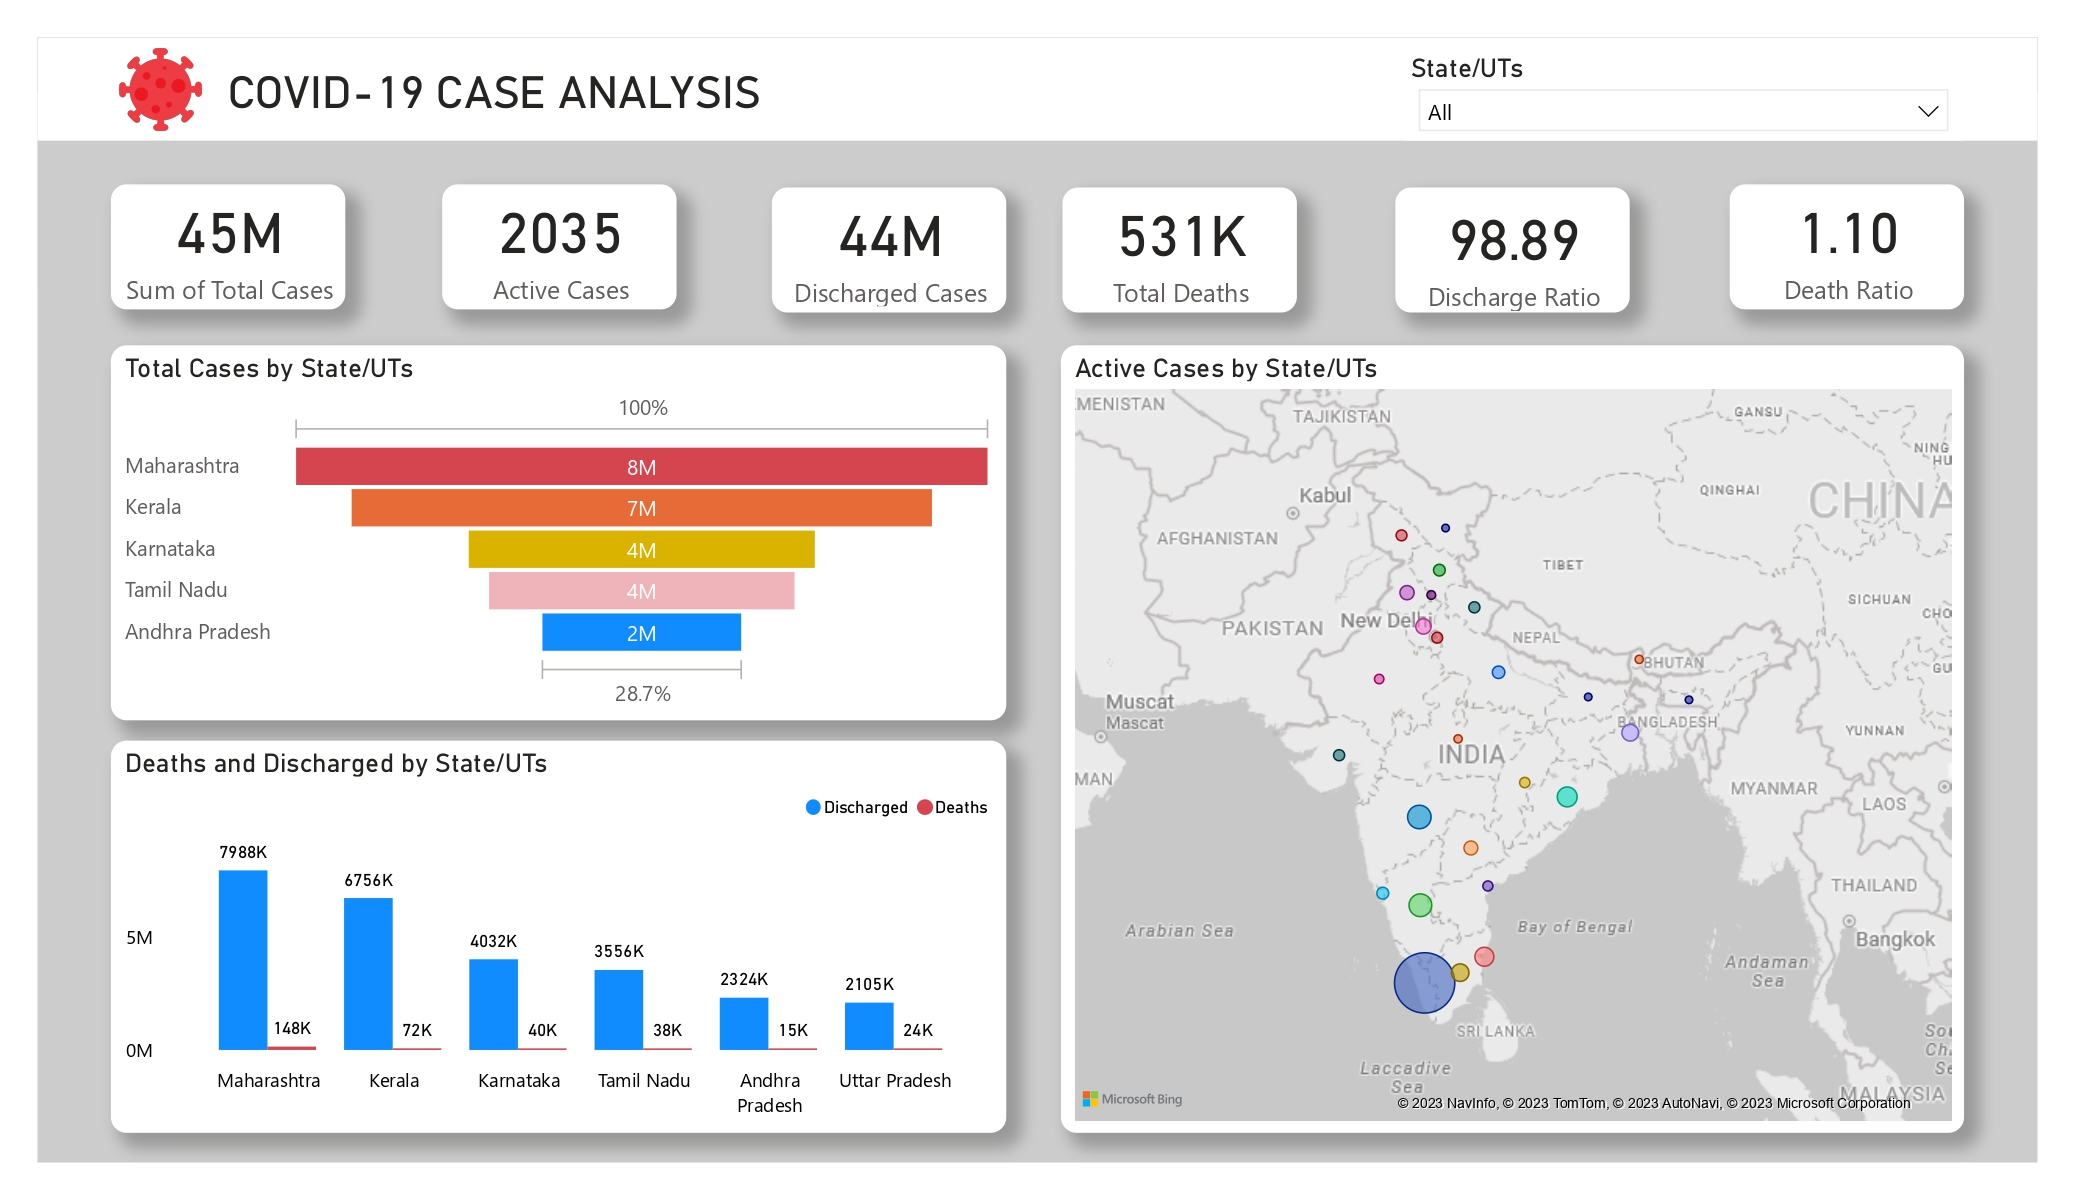

What the dashboard file says about the page in this screenshot:
{"tool":"powerbi","page":{"name":"Covid -19","canvas":[1280,720],"ordinal":0},"visuals":[{"type":"textbox","title":"  ","box":[0,0,1280.6,65.8],"z":0},{"type":"card","fields":{"Values":["Sum(Latest Covid-19 India Status.Discharged)"]},"box":[470,95.7,150,80],"z":1000},{"type":"card","fields":{"Values":["Sum(Latest Covid-19 India Status.Deaths)"]},"box":[655.7,95.7,150,80],"z":2000},{"type":"slicer","title":"State/UTs","fields":{"Values":["Latest Covid-19 India Status.State/UTs"]},"box":[873.9,9.4,359.5,56.6],"z":3000},{"type":"funnel","fields":{"Category":["Latest Covid-19 India Status.State/UTs"],"Y":["Sum(Latest Covid-19 India Status.Total Cases)"]},"box":[47.1,197.1,572.9,240],"z":4000},{"type":"card","fields":{"Values":["Avg(Latest Covid-19 India Status.Death Ratio)"]},"box":[1082.6,94.3,150.8,79.4],"z":5000},{"type":"card","fields":{"Values":["Avg(Latest Covid-19 India Status.Discharge Ratio)"]},"box":[868.6,95.7,150,80],"z":6000},{"type":"card","fields":{"Values":["Sum(Latest Covid-19 India Status.Total Cases)"]},"box":[47.1,94.3,150,80],"z":7000},{"type":"card","fields":{"Values":["Sum(Latest Covid-19 India Status.Active)"]},"box":[258.6,94.3,150,80],"z":8000},{"type":"clusteredColumnChart","title":"Deaths and Discharged by State/UTs","fields":{"Category":["Latest Covid-19 India Status.State/UTs"],"Y":["Sum(Latest Covid-19 India Status.Discharged)","Sum(Latest Covid-19 India Status.Deaths)"]},"box":[47.1,450,572.9,251.4],"z":9000},{"type":"image","box":[47.1,0,63.3,66],"z":10000},{"type":"map","title":"Active Cases by State/UTs","fields":{"Category":["Latest Covid-19 India Status.State/UTs"],"Series":["Latest Covid-19 India Status.Active"],"Size":["Sum(Latest Covid-19 India Status.Active)"]},"box":[655.4,197.4,577.2,503.2],"z":11000}]}

Visuals, with their boxes in screenshot pixels (x1, y1, x2, y2):
"  " textbox: x1=38, y1=38, x2=2038, y2=140
card - Sum(Latest Covid-19 India Status.Discharged): x1=772, y1=187, x2=1006, y2=312
card - Sum(Latest Covid-19 India Status.Deaths): x1=1062, y1=187, x2=1296, y2=312
"State/UTs" slicer: x1=1403, y1=52, x2=1965, y2=141
funnel - Latest Covid-19 India Status.State/UTs x Sum(Latest Covid-19 India Status.Total Cases): x1=111, y1=345, x2=1006, y2=720
card - Avg(Latest Covid-19 India Status.Death Ratio): x1=1729, y1=185, x2=1965, y2=309
card - Avg(Latest Covid-19 India Status.Discharge Ratio): x1=1395, y1=187, x2=1629, y2=312
card - Sum(Latest Covid-19 India Status.Total Cases): x1=111, y1=185, x2=345, y2=310
card - Sum(Latest Covid-19 India Status.Active): x1=442, y1=185, x2=676, y2=310
"Deaths and Discharged by State/UTs" clusteredColumnChart: x1=111, y1=741, x2=1006, y2=1133
image: x1=111, y1=38, x2=210, y2=141
"Active Cases by State/UTs" map: x1=1062, y1=346, x2=1963, y2=1132
